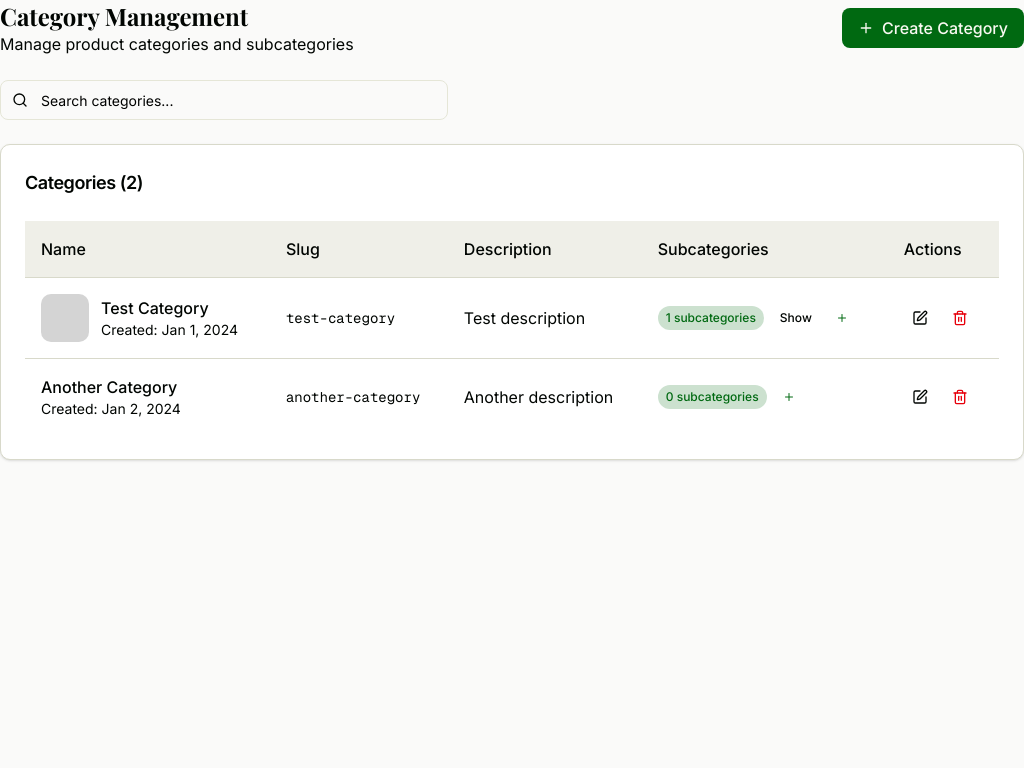
Test: CategoryManager › opens create modal when Create Category button is clicked
Click the button "Create Category".
click(933, 28)  # box [842, 8, 1023, 48]
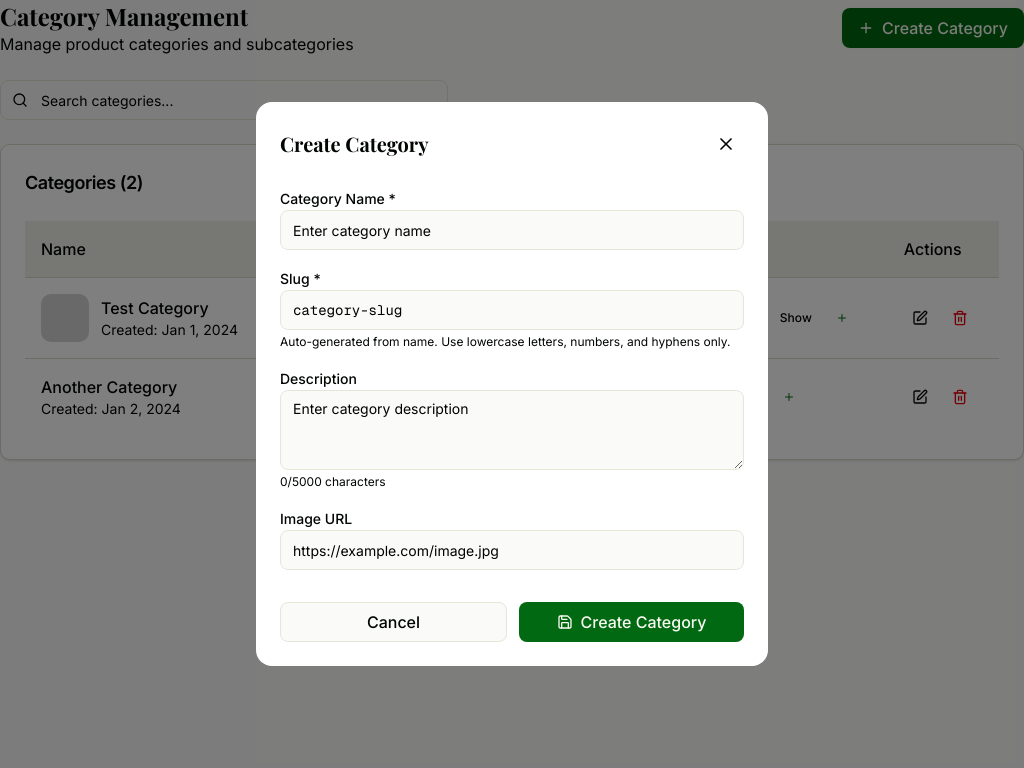
expect the heading "Create Category" is shown: met, box [280, 130, 429, 158]
expect the field labelled "Category Name *" is shown: met, box [280, 210, 744, 250]
expect the field labelled "Slug *" is shown: met, box [280, 290, 744, 330]
